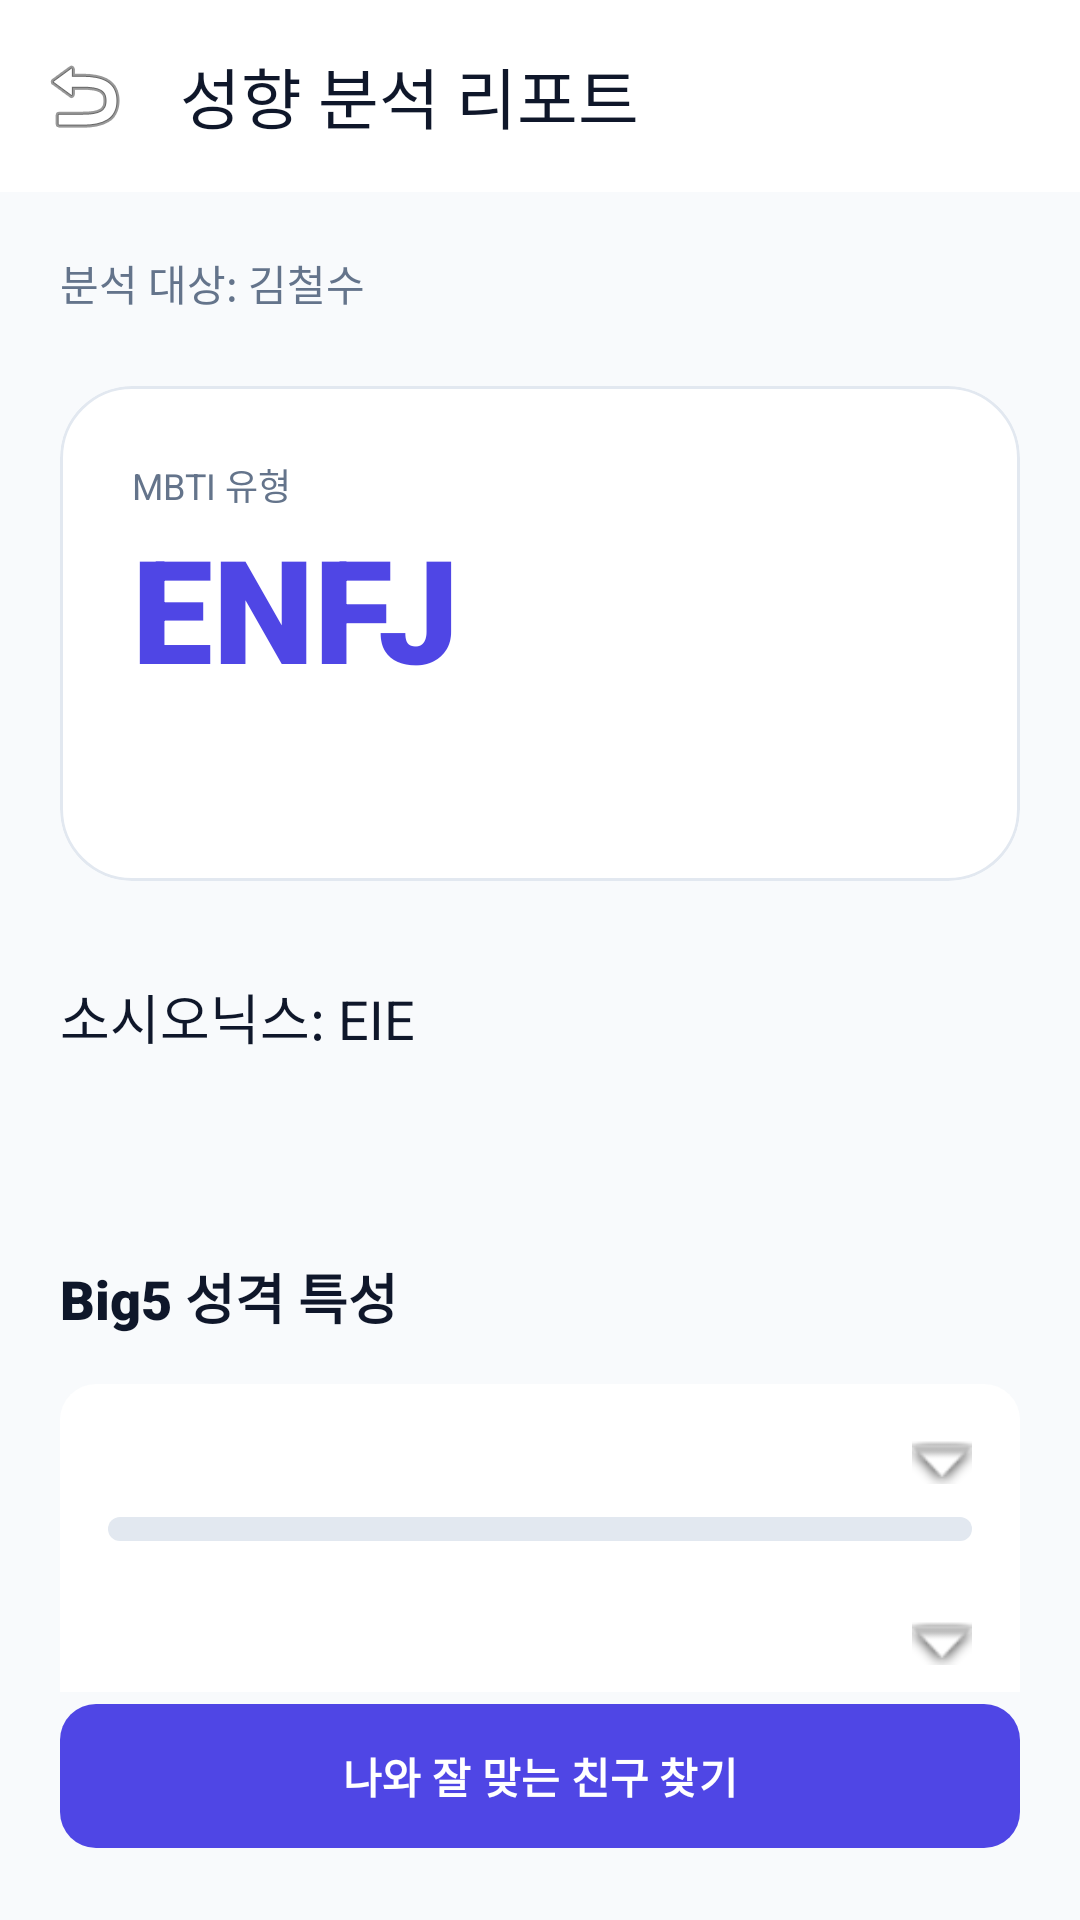

Named icons in this screenshot (1080x1920) and their centers, [x,y]:
상세보기: [942,1462], [942,1643]
